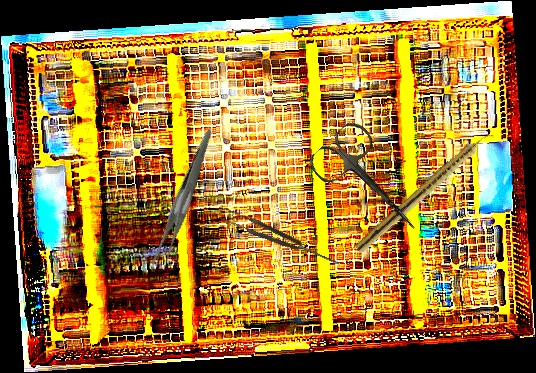Dressing Forceps: (120, 129, 250, 272)
Handpiece: (353, 126, 497, 257)
Iris Scissors: (305, 116, 438, 253)
Tissue Forceps: (218, 205, 343, 272)
